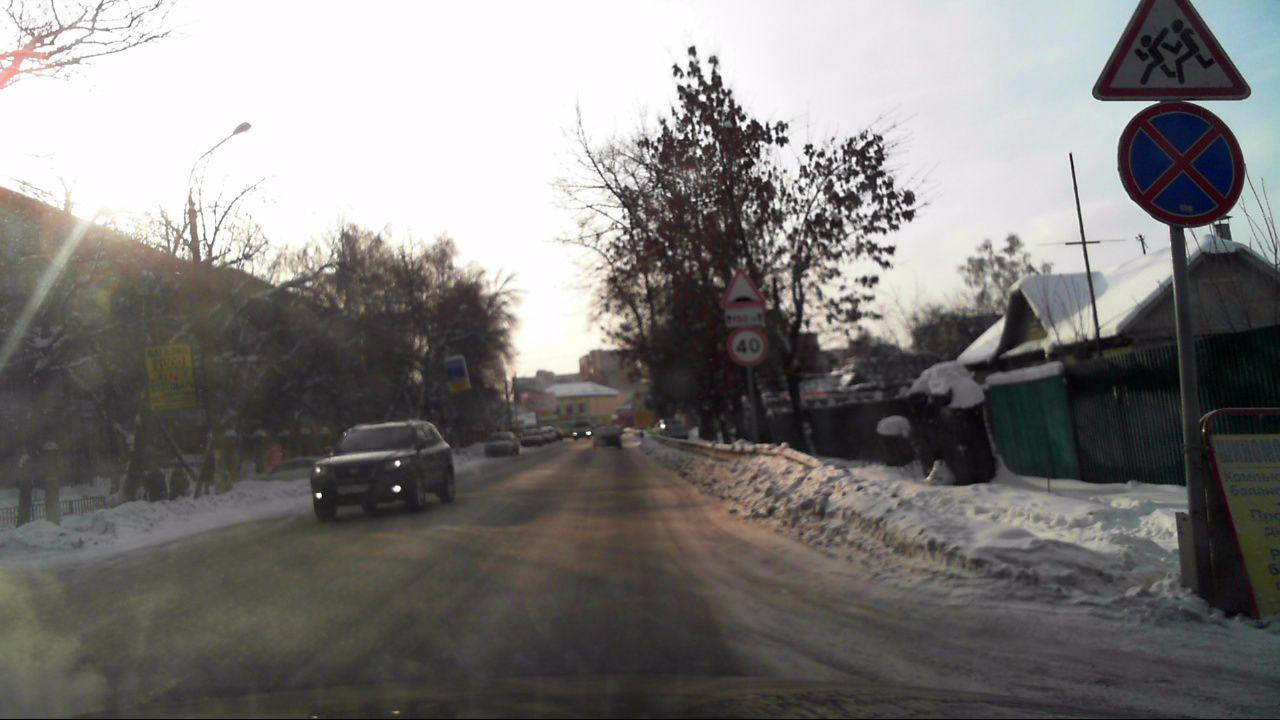1_17: (720, 268, 766, 308)
1_23: (1093, 0, 1254, 101)
3_24: (727, 327, 769, 368)
3_27: (1115, 101, 1247, 227)
8_2_1: (725, 309, 767, 328)
